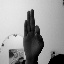f: (22, 8, 45, 56)
